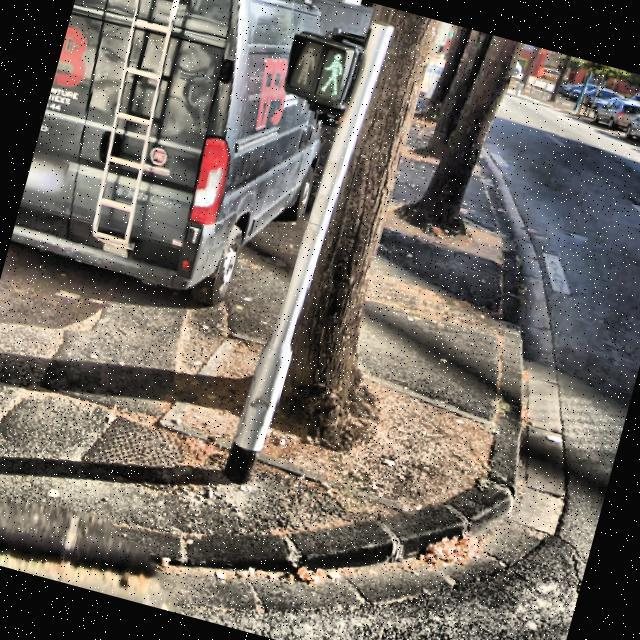green_light: (312, 42, 351, 99)
